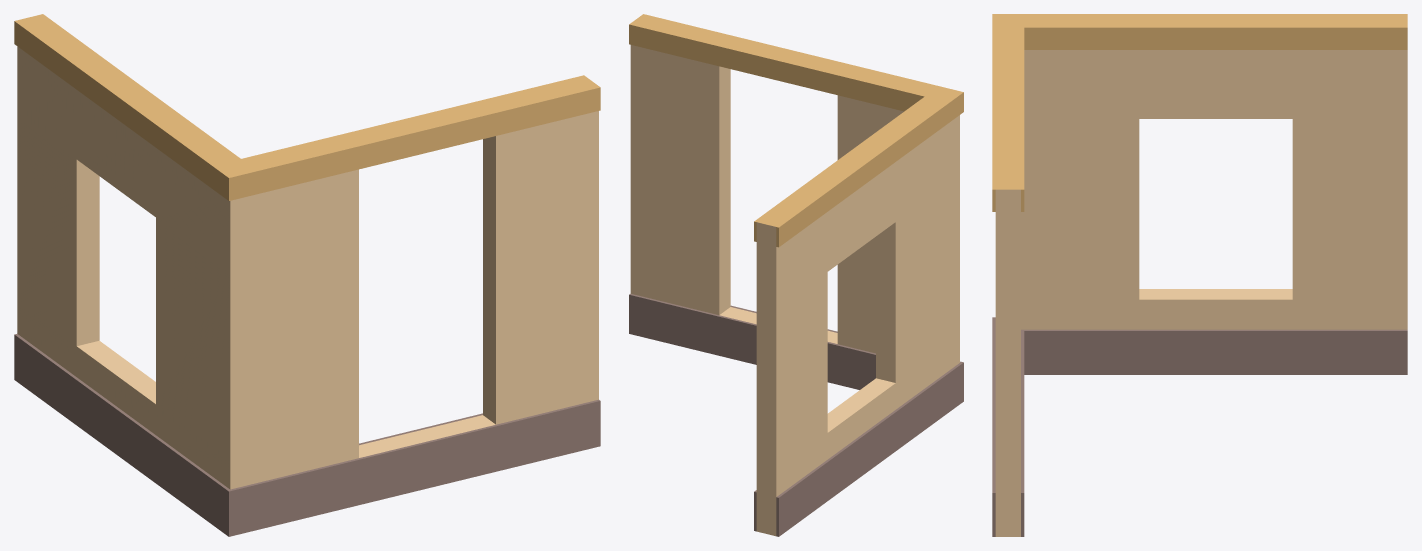
File: Wall06-04.fbx
The picture shows the model from 3 angles, left to right: view 1: azimuth 30°, elevation 25°; view 2: azimuth 150°, elevation 25°; view 3: azimuth 270°, elevation 25°; orthographic projection. The views are drawn at different scales.
Visible parts, largest first — view 1: Wall06-04; view 2: Wall06-04; view 3: Wall06-04.
Boxes of the visible parts, x1,y1,x2,y2 form: Wall06-04: (14,14,600,536); Wall06-04: (629,14,963,536); Wall06-04: (992,14,1407,536).
Bounding box in the file's own units: 3.25 × 3.25 × 3.
